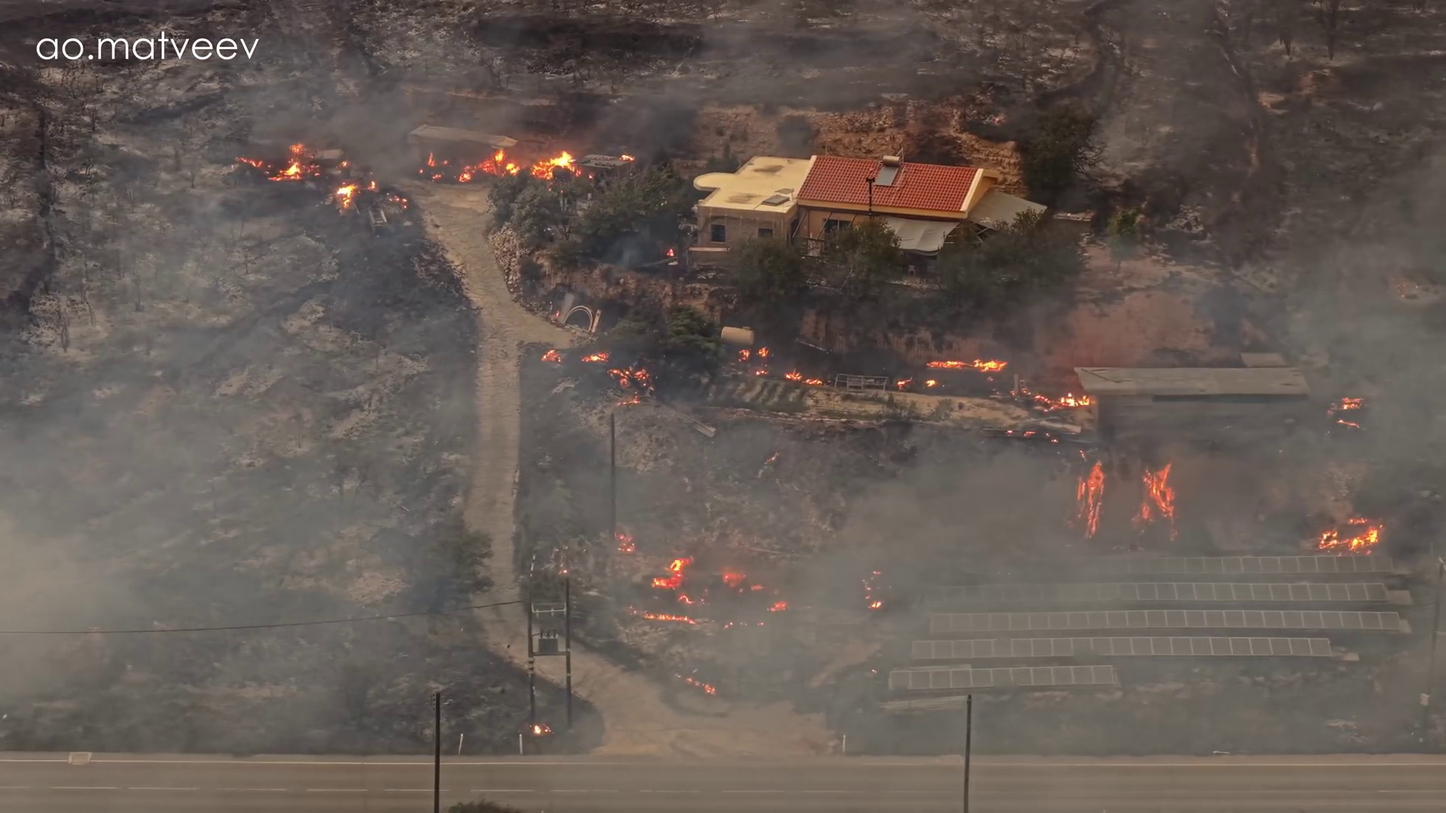forest_fire: (236, 144, 378, 209), (417, 148, 576, 181), (734, 346, 826, 385), (1135, 462, 1176, 538), (1317, 516, 1382, 553), (1075, 461, 1104, 537), (651, 557, 693, 589), (607, 364, 654, 391), (1327, 396, 1364, 428), (1030, 393, 1093, 410), (926, 359, 1008, 372), (676, 674, 715, 693), (615, 531, 635, 553), (541, 348, 563, 363), (580, 352, 609, 361)
